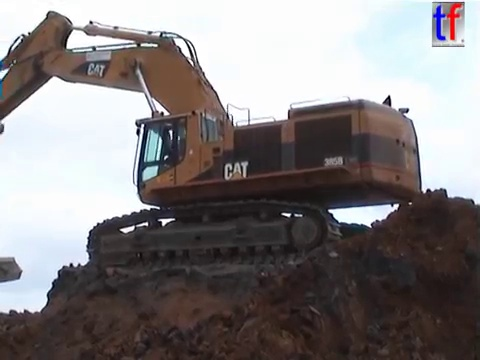excavator: (1, 7, 428, 277), (1, 253, 25, 286)
